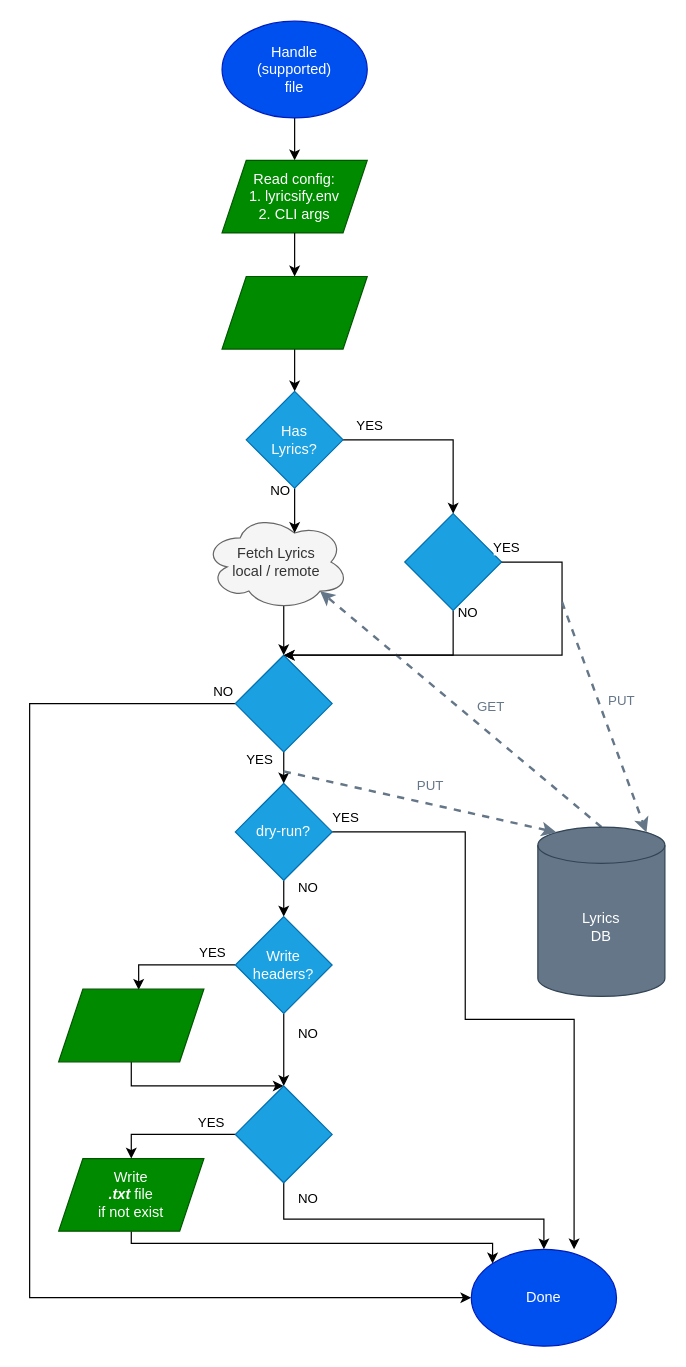
Some shapes in this 686 by 1367 pixel diagram are drawn without their labels. The shapes that lost their labels are listed below. From the top down, each one's centre as x and y in pixels, then its label:
At pixel 294 312: "Read metadata from file".
At pixel 453 561: "Cache enabled?".
At pixel 283 703: "Lyrics Found?".
At pixel 130 1025: "Write lyrics headers if not exist (with .bak file)".
At pixel 283 1134: "Write txt file?".
